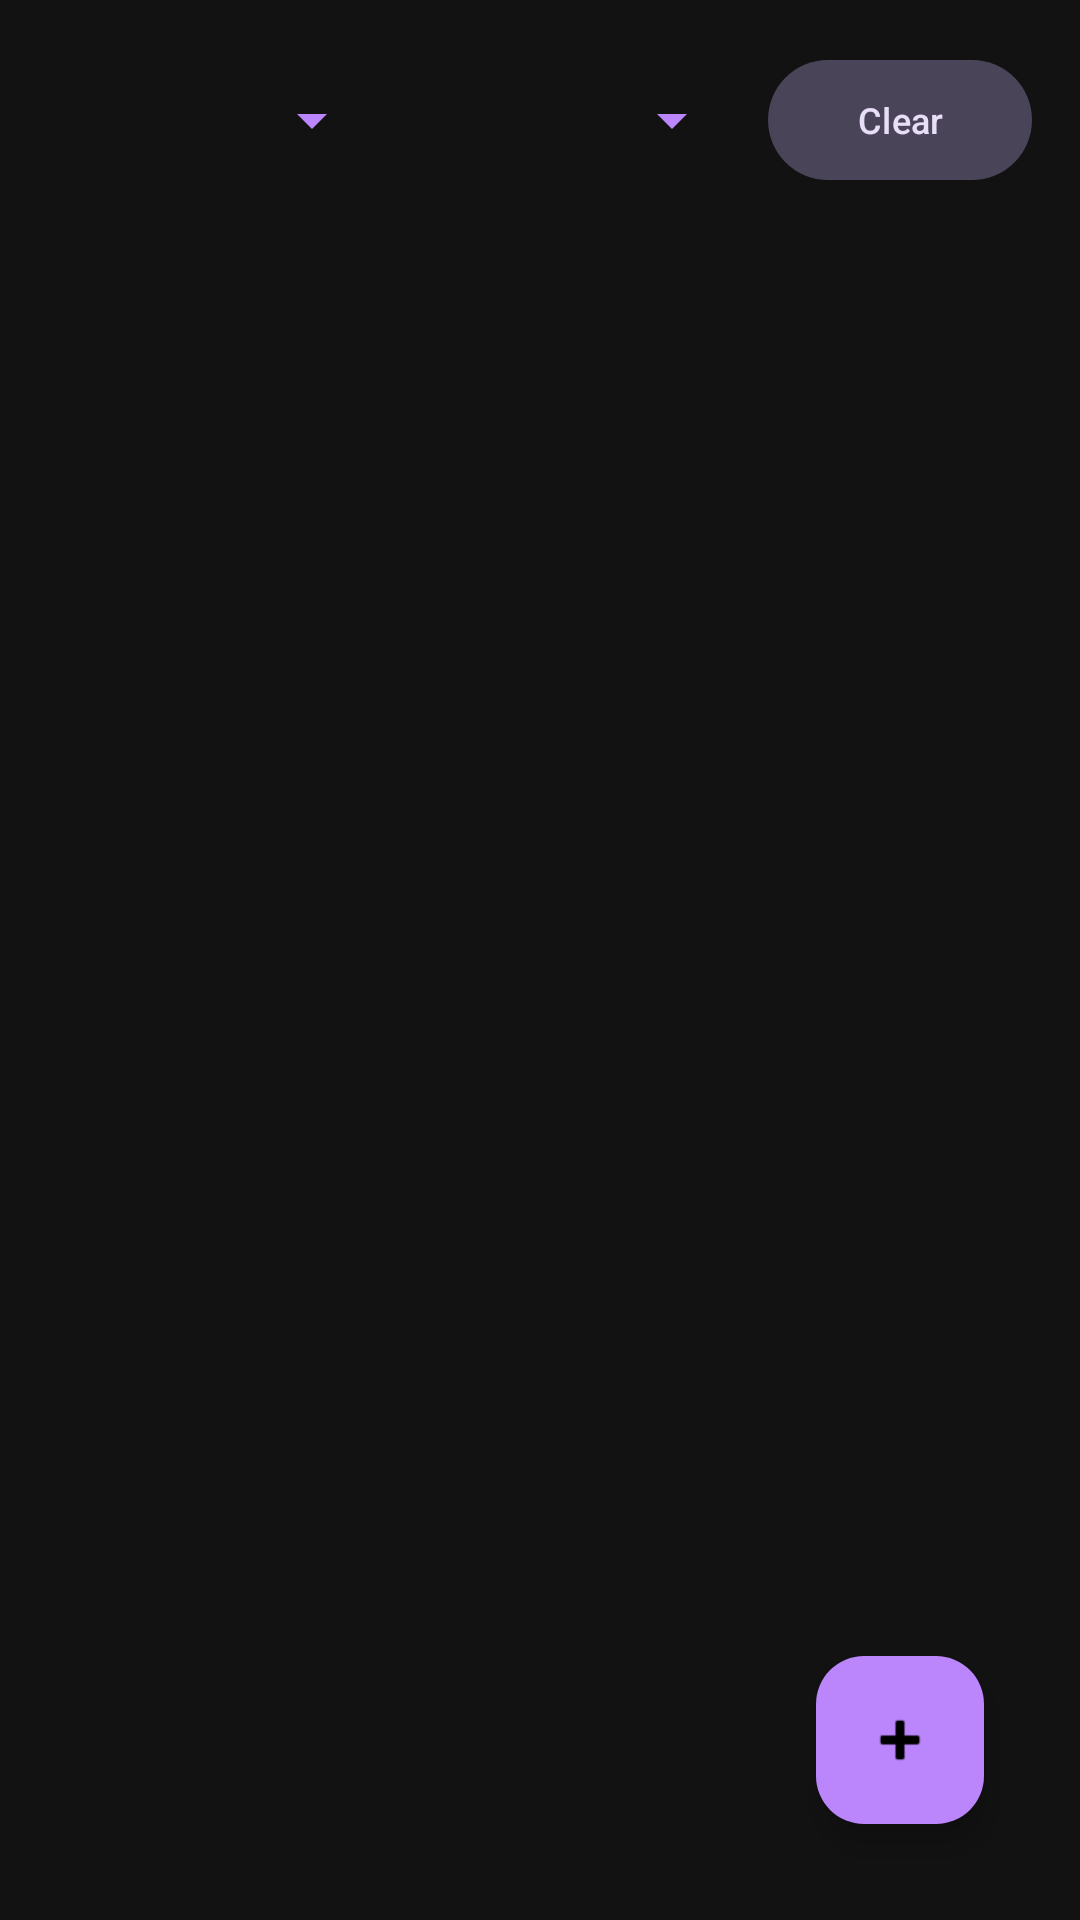

Point at icon controls on the screen. Image size 1080 × 1920, points as [x,y].
Create Alert: [900,1740]
